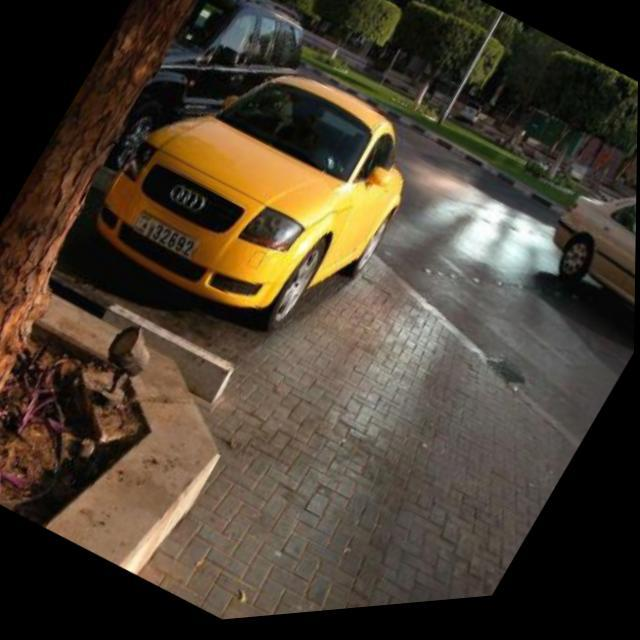license_plate: (130, 208, 204, 269)
